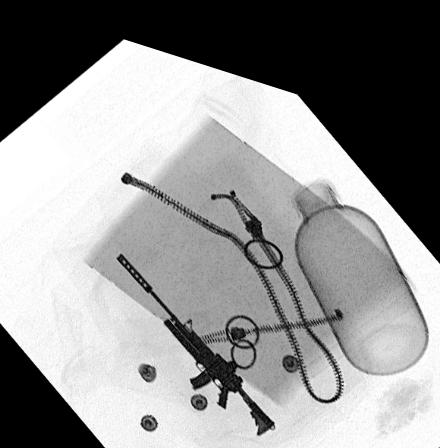Gun: (113, 242, 276, 421)
